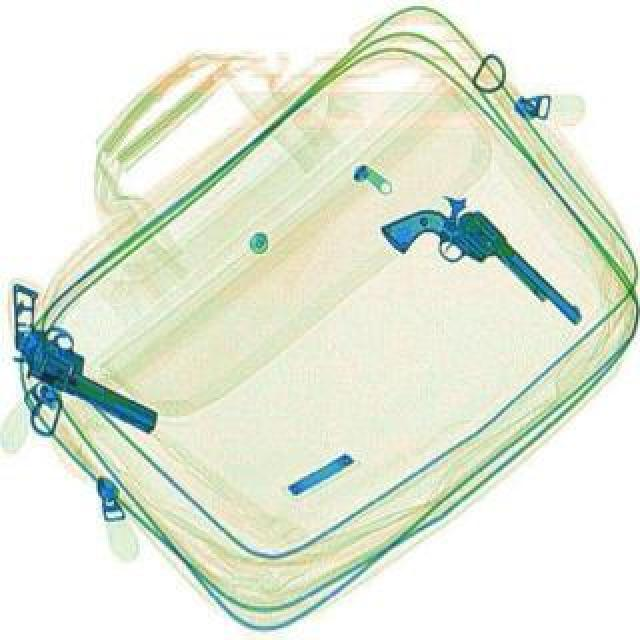gun: (374, 178, 584, 376), (0, 312, 180, 438)
